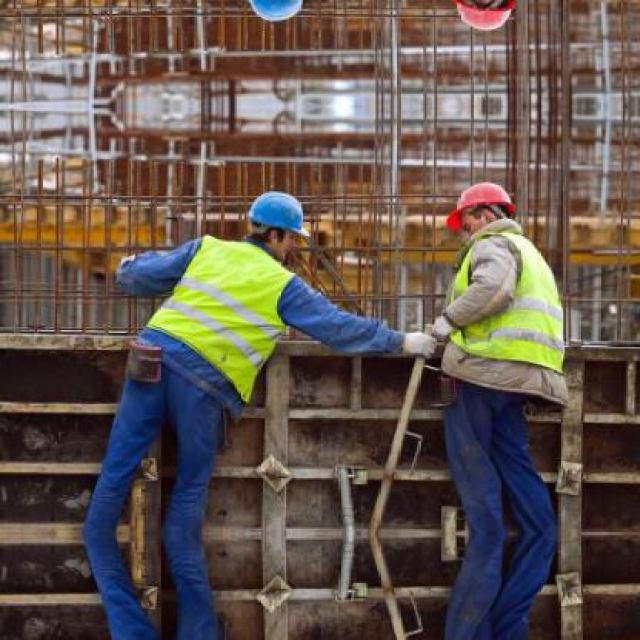helmet: (241, 184, 310, 262), (444, 176, 524, 239), (445, 0, 526, 37), (240, 0, 311, 29)
